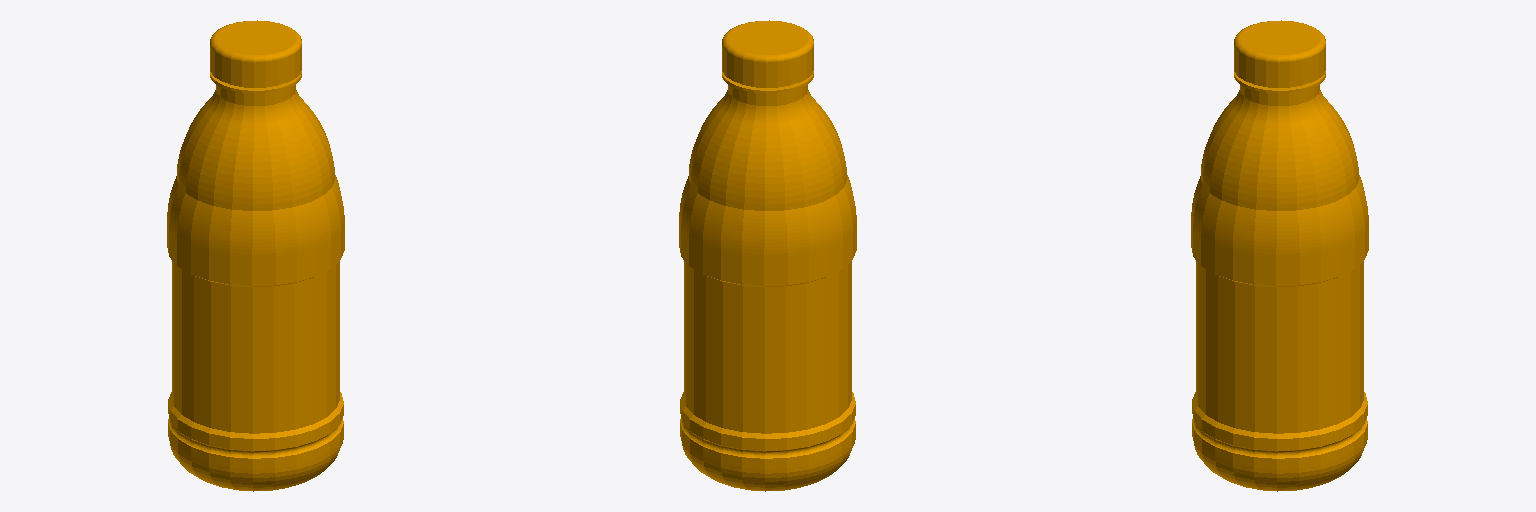
URDF robot description (obj_12):
<?xml version="1.0"?>
<robot name="obj_12">
  <link name="obj_12">
    <visual>
      <origin xyz="0.0 0.0 0.0" rpy="0 0 0"/>
      <geometry>
        <mesh filename="../mesh/ncf_mug_cupholder/obj_assets/12/obj_collision.obj" scale="1 1 1"/>
      </geometry>
    </visual>
    <collision>
      <origin xyz="0.0 0.0 0.0" rpy="0 0 0"/>
      <geometry>
        <mesh filename="../mesh/ncf_mug_cupholder/obj_assets/12/obj_collision.obj" scale="1 1 1"/>
      </geometry>
      <sdf resolution="512"/>
    </collision >    
    <inertial>
      <mass value="0.102"/>
      <inertia ixx="0.0001" ixy="0.0" ixz="0.0" iyy="0.0001" iyz="0.0" izz="0.0001"/>
    </inertial>
  </link>
</robot>

--- Render facts (derived) ---
3 views of the same robot in one strip: view 1: azimuth 30°, elevation 25°; view 2: azimuth 150°, elevation 25°; view 3: azimuth 270°, elevation 25° (orthographic).
Model obj_12 with 1 links and 0 joints (none), rooted at obj_12, posed every joint at zero.
Visible links, largest first — view 1: obj_12; view 2: obj_12; view 3: obj_12.
Boxes of the visible links, box(x1,y1,x2,y2) form: obj_12: box(167, 20, 344, 491); obj_12: box(679, 20, 856, 491); obj_12: box(1191, 20, 1368, 491).
Size in the robot's own frame: 0.0594 by 0.0594 by 0.1592 metres.
1 mesh visuals loaded from 1 distinct referenced files (1 OBJ).